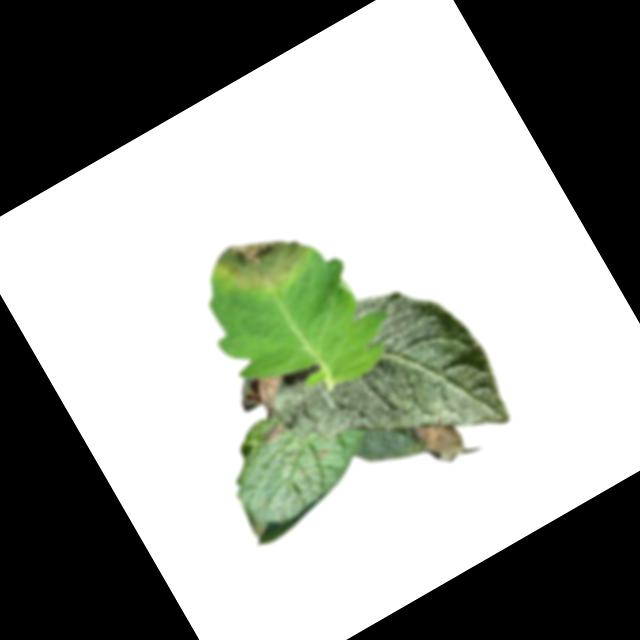Late_blight: (213, 211, 320, 310), (409, 409, 470, 474), (235, 364, 298, 425), (255, 419, 288, 447)
healthy: (249, 258, 520, 518)
